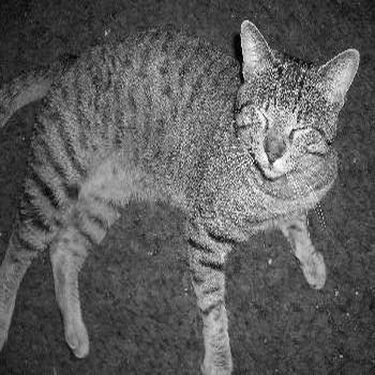cat: (1, 20, 359, 373)
